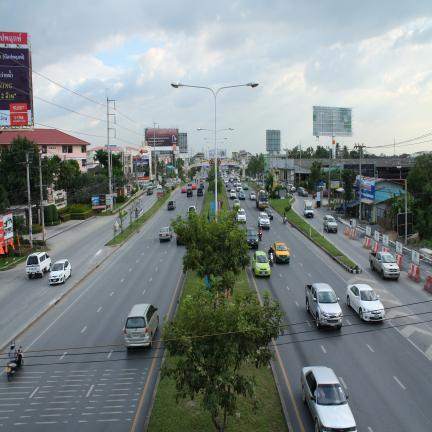car: (301, 366, 357, 432), (124, 304, 159, 350), (346, 284, 385, 321), (49, 259, 71, 284), (252, 251, 270, 276), (323, 215, 338, 233), (246, 227, 258, 249), (258, 212, 270, 229), (159, 227, 172, 242), (237, 208, 246, 224), (264, 208, 273, 220), (297, 187, 308, 196), (233, 199, 241, 208), (230, 190, 236, 199), (187, 188, 193, 196), (156, 184, 162, 190), (236, 185, 241, 191)
human: (9, 342, 16, 362)
motorbike: (6, 349, 24, 381), (258, 227, 262, 240), (269, 253, 273, 266), (283, 216, 286, 224)
pickup: (305, 283, 343, 328), (369, 252, 400, 279), (26, 252, 51, 278), (167, 200, 175, 210), (239, 190, 246, 200), (197, 187, 203, 196), (249, 192, 255, 200), (147, 187, 153, 195)
taxi: (271, 242, 290, 263), (181, 186, 187, 193), (191, 183, 196, 189), (243, 184, 248, 190)
truck: (255, 190, 268, 210), (304, 200, 314, 218), (147, 186, 153, 195)
